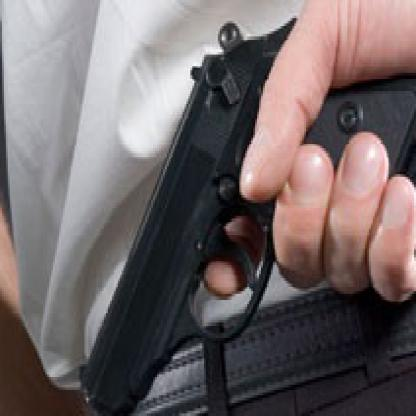gun: (73, 8, 414, 413)
